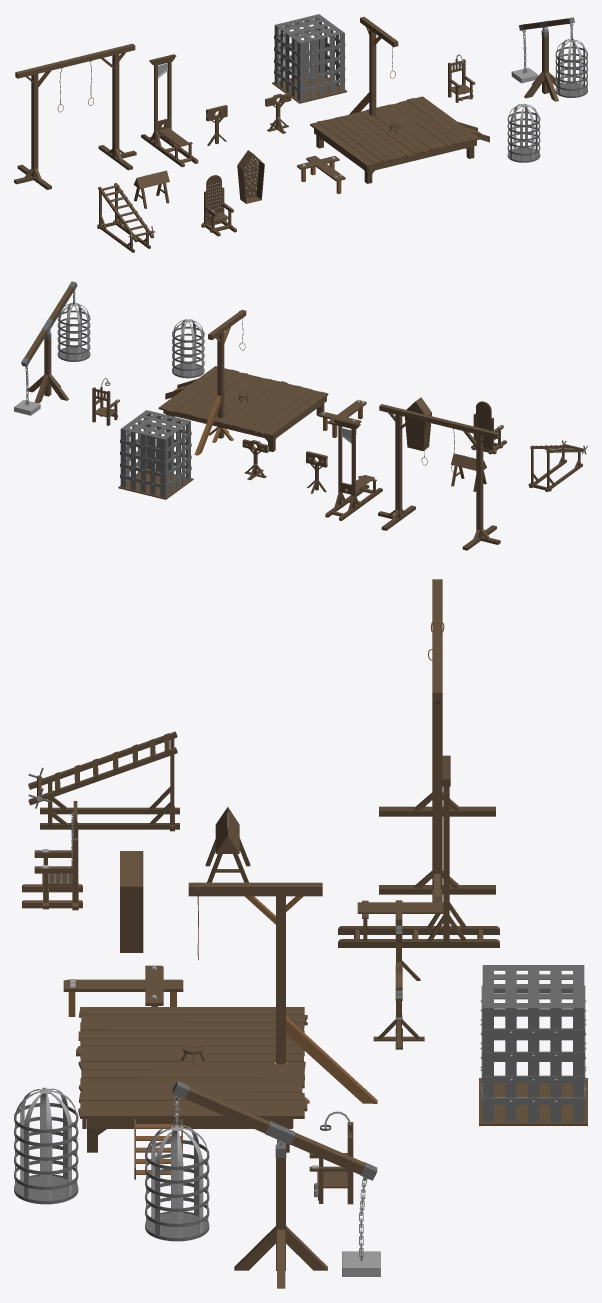
File: lowpoly_torture_devices - Sketchfab.fbx
3 renders of one model, top to bottom at view 1: azimuth 30°, elevation 25°; view 2: azimuth 150°, elevation 25°; view 3: azimuth 270°, elevation 25°, orthographic. The views are drawn at different scales.
Visible parts, largest first — view 1: torture_device_001, torture_device_011, torture_device_005, torture_device_015, torture_device_003, torture_device_013, torture_device_004, torture_device_006, torture_device_007, torture_device_008, torture_device_002, torture_device_009 (+2 smaller); view 2: torture_device_001, torture_device_011, torture_device_015, torture_device_005, torture_device_003, torture_device_013, torture_device_004, torture_device_007, torture_device_006, torture_device_002, torture_device_008, torture_device_009 (+2 smaller); view 3: torture_device_001, torture_device_011, torture_device_015, torture_device_005, torture_device_013, torture_device_003, torture_device_004, torture_device_006, torture_device_007, torture_device_008, torture_device_009, torture_device_002 (+1 smaller).
Part boxes in pixels (x1,y1,x2,y2): torture_device_001: (310, 16, 489, 183); torture_device_011: (272, 14, 347, 103); torture_device_005: (14, 43, 136, 189); torture_device_015: (511, 17, 587, 101); torture_device_003: (141, 54, 198, 167); torture_device_013: (507, 103, 540, 162); torture_device_004: (97, 183, 155, 252); torture_device_006: (201, 175, 236, 236); torture_device_007: (237, 150, 264, 203); torture_device_008: (297, 155, 345, 194); torture_device_002: (448, 54, 475, 102); torture_device_009: (133, 170, 169, 208); torture_device_001: (158, 309, 328, 455); torture_device_011: (118, 410, 193, 499); torture_device_015: (14, 281, 90, 415); torture_device_005: (378, 404, 500, 550); torture_device_003: (325, 418, 382, 520); torture_device_013: (172, 319, 204, 378); torture_device_004: (528, 440, 587, 491); torture_device_007: (405, 397, 431, 450); torture_device_006: (471, 401, 506, 454); torture_device_002: (92, 378, 119, 425); torture_device_008: (318, 400, 366, 437); torture_device_009: (451, 453, 486, 491); torture_device_001: (76, 882, 377, 1179); torture_device_011: (479, 965, 587, 1125); torture_device_015: (145, 1081, 380, 1288); torture_device_005: (379, 579, 495, 902); torture_device_013: (14, 1087, 78, 1204); torture_device_003: (338, 755, 499, 947); torture_device_004: (28, 731, 179, 831); torture_device_006: (22, 801, 82, 910); torture_device_007: (120, 851, 143, 952); torture_device_008: (63, 965, 183, 1016); torture_device_009: (205, 807, 250, 882); torture_device_002: (309, 1111, 353, 1204).
Bounding box in the file's own units: 2295 × 475 × 1129.
